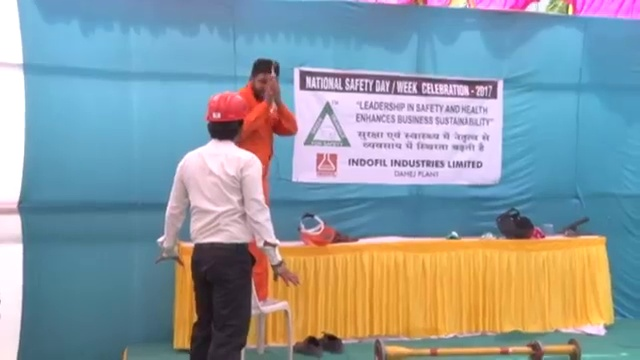helmet: (205, 90, 249, 123)
helmet_off: (251, 56, 282, 102)
helmet_on: (203, 90, 249, 143)
person: (155, 88, 297, 360), (231, 58, 298, 298)
